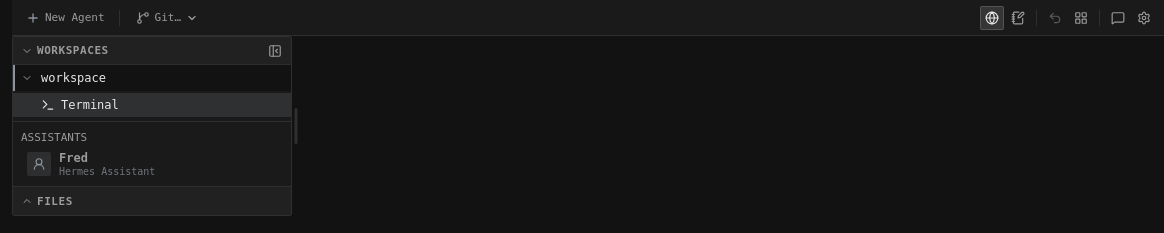
disabling Assistants clears every Assistant Browser UI state and leaves workspace state untouched
Step 1. Click the button "Fred Hermes Assistant" → [152, 164], box [21, 150, 283, 178]
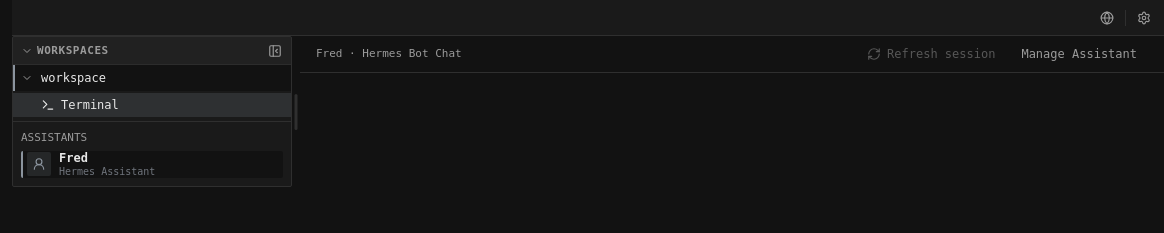
Step 2. Click the button named "Toggle browser panel" → [1107, 18], box [1095, 6, 1119, 30]
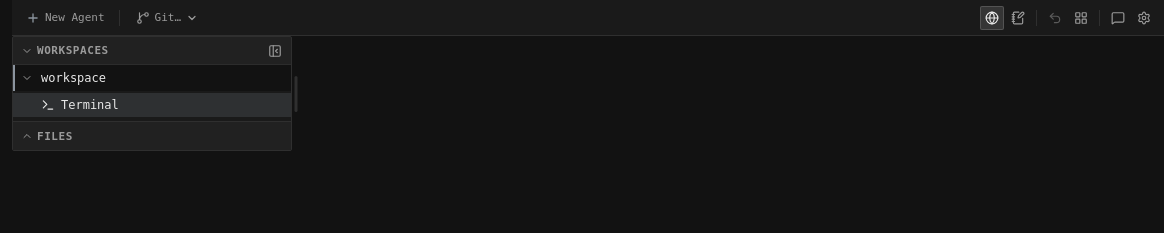
Expected: the element "New Agent" is shown, [20, 6, 111, 30]
